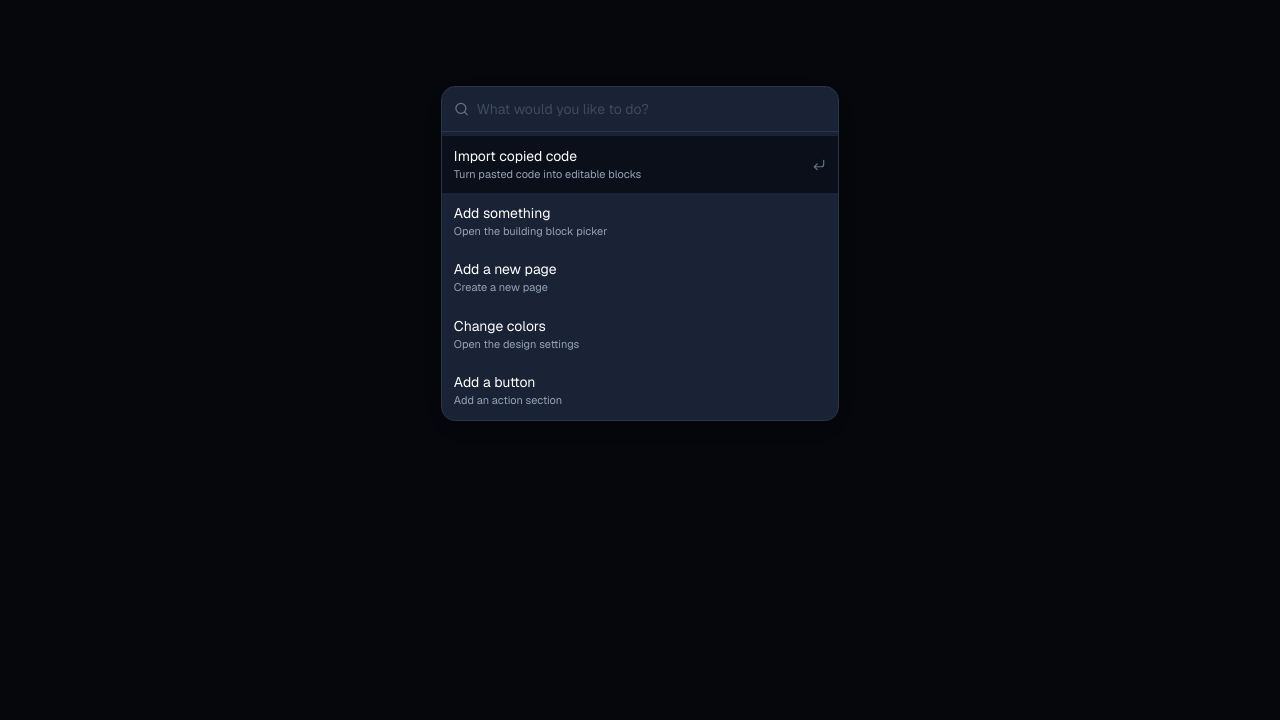
it: Command palette entry point › "Import copied code" opens the Import Studio
The image size is (1280, 720).
Click the button with test id "command-import-code" at (640, 165), box [442,136,838,193]
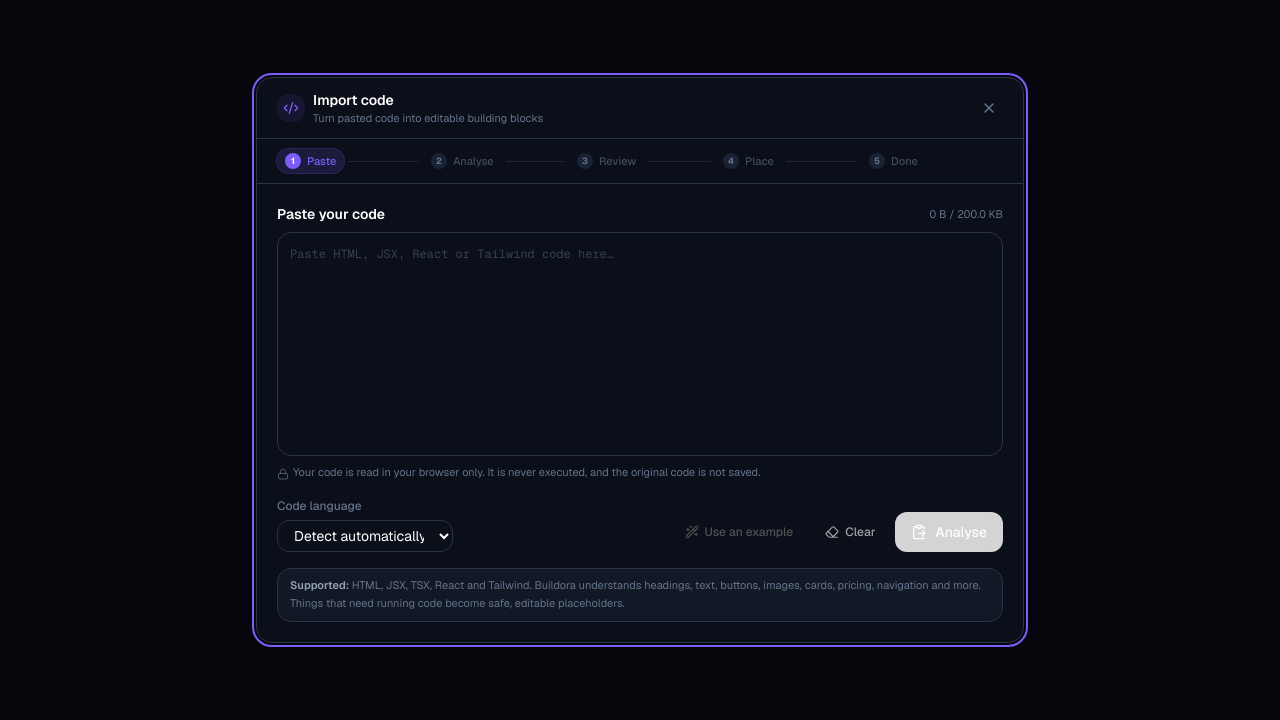
Check: the dialog with test id "code-import-dialog" is shown
